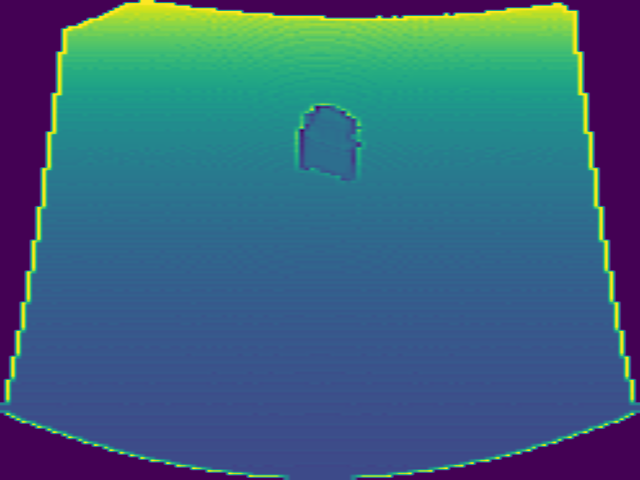car_0027: (291, 101, 365, 186)
